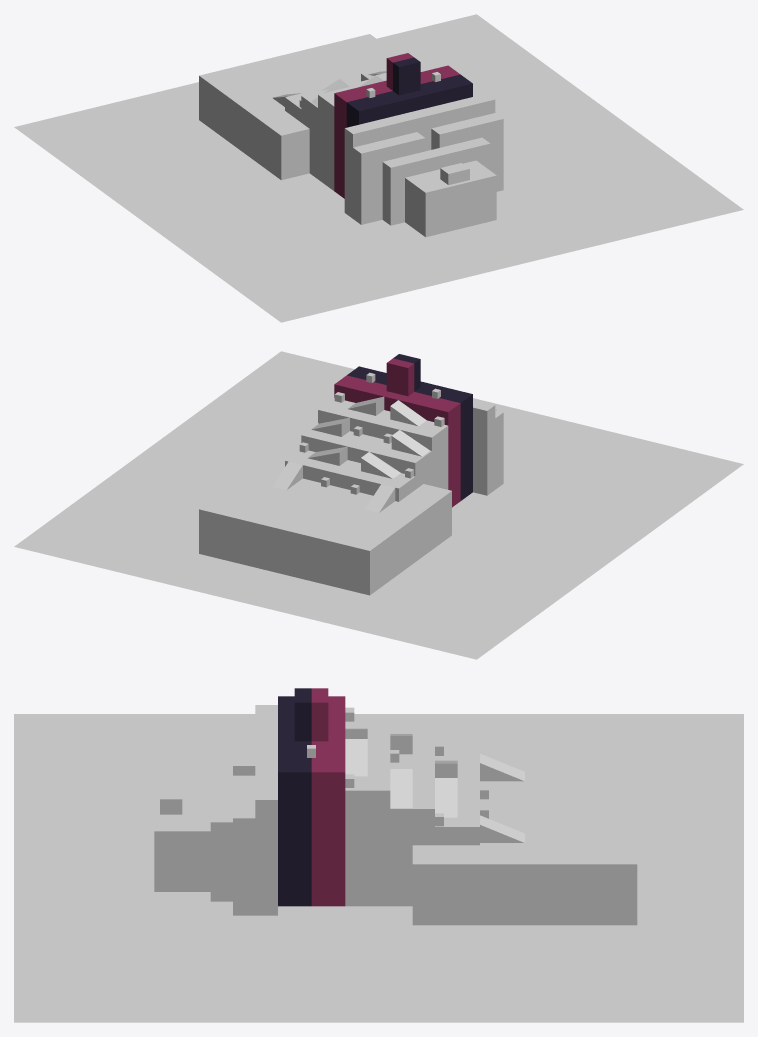
File: NyxManor.fbx
3 renders of one model, top to bottom at view 1: azimuth 30°, elevation 25°; view 2: azimuth 150°, elevation 25°; view 3: azimuth 270°, elevation 25°, orthographic. The views are drawn at different scales.
Parts seen in each view (by area): view 1: RavineWater, Lawn, CryptLedge, Roof, B1, B3, B2E, SideLawnE, B2W, S3, Turret, S2 (+2 smaller); view 2: RavineWater, Lawn, Roof, S3, S2, S1, B1, SideLawnE, Turret, B2E, Stair1E, Ramp2E (+3 smaller); view 3: RavineWater, Lawn, Roof, S3, CryptLedge, SideLawnW, S2, B1, B3, B2W, S1, Turret (+7 smaller).
Boxes of the visible parts, x1,y1,x2,y2 form: RavineWater: (14,14,743,322); Lawn: (199,34,398,161); CryptLedge: (405,160,496,237); Roof: (334,65,472,198); B1: (344,93,495,218); B3: (382,137,490,225); B2E: (353,132,425,224); SideLawnE: (256,111,309,180); B2W: (431,113,503,191); S3: (318,67,433,190); Turret: (386,53,420,95); S2: (301,75,386,178); RavineWater: (14,351,743,659); Lawn: (199,467,427,595); Roof: (334,366,472,507); S3: (318,398,448,489); S2: (301,423,431,489); S1: (285,450,415,501); B1: (345,370,495,495); SideLawnE: (399,484,451,552); Turret: (386,354,420,396); B2E: (495,410,503,489); Stair1E: (361,452,400,478); Ramp2E: (391,430,429,456); RavineWater: (14,714,743,1022); Lawn: (480,750,637,925); Roof: (278,696,345,906); S3: (345,714,390,906); CryptLedge: (154,783,210,891); SideLawnW: (412,845,479,925); S2: (390,733,434,906); B1: (255,705,277,915); B3: (210,756,232,901); B2W: (233,775,255,915); S1: (435,751,479,845); Turret: (294,688,328,741).
Size of the model in its own units: 130 by 34 by 130.
